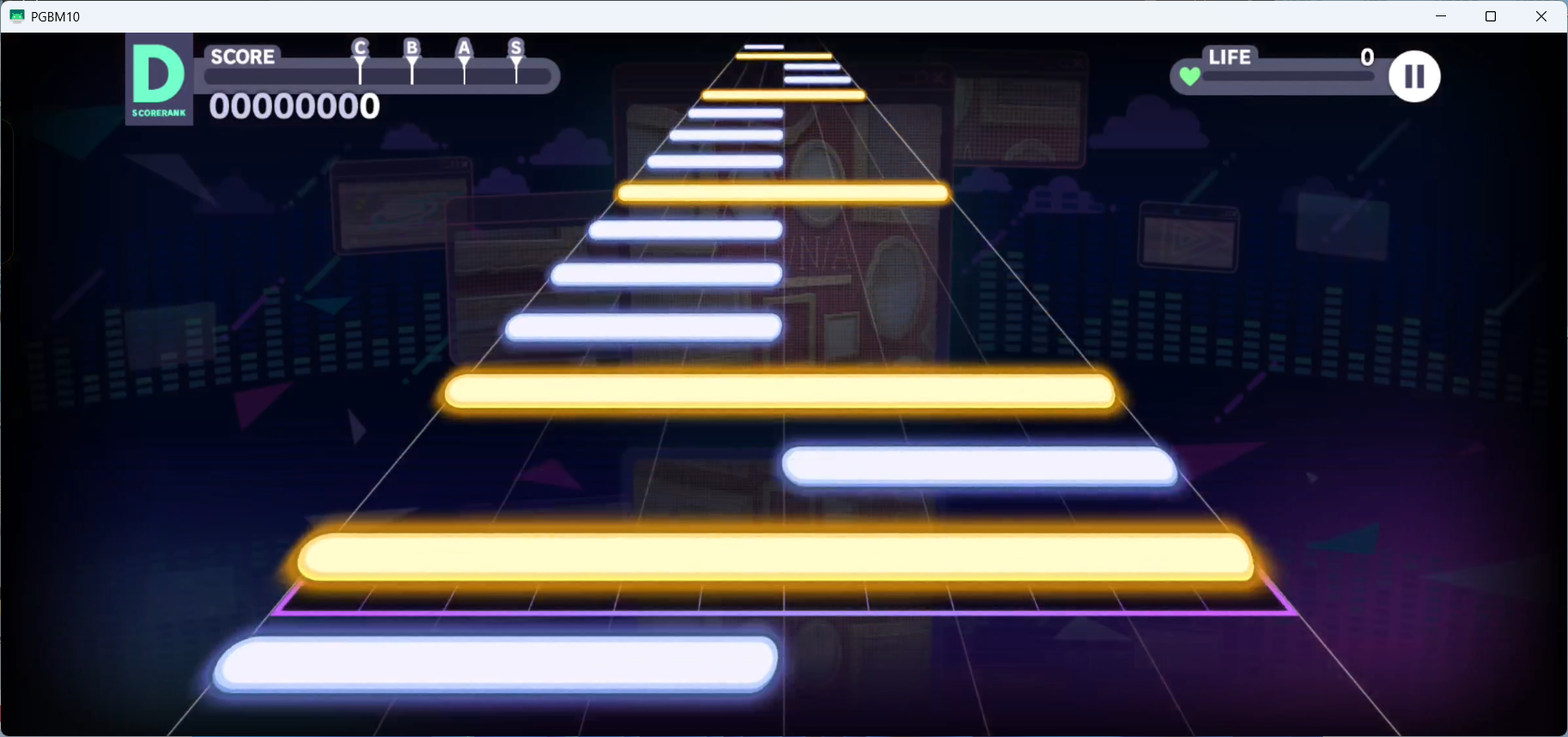tap: (298, 530, 1254, 583), (214, 636, 776, 692), (443, 373, 1115, 409), (783, 445, 1177, 492), (504, 312, 781, 342), (617, 184, 949, 202), (550, 262, 783, 287), (588, 220, 782, 239), (647, 154, 784, 169), (701, 89, 866, 100), (669, 130, 783, 141), (688, 108, 783, 118), (735, 53, 832, 59), (783, 76, 852, 83), (783, 63, 841, 69), (744, 45, 784, 50)
